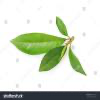Peach leaf: (6, 32, 66, 57), (38, 44, 68, 73), (68, 44, 88, 76), (55, 14, 68, 37)
